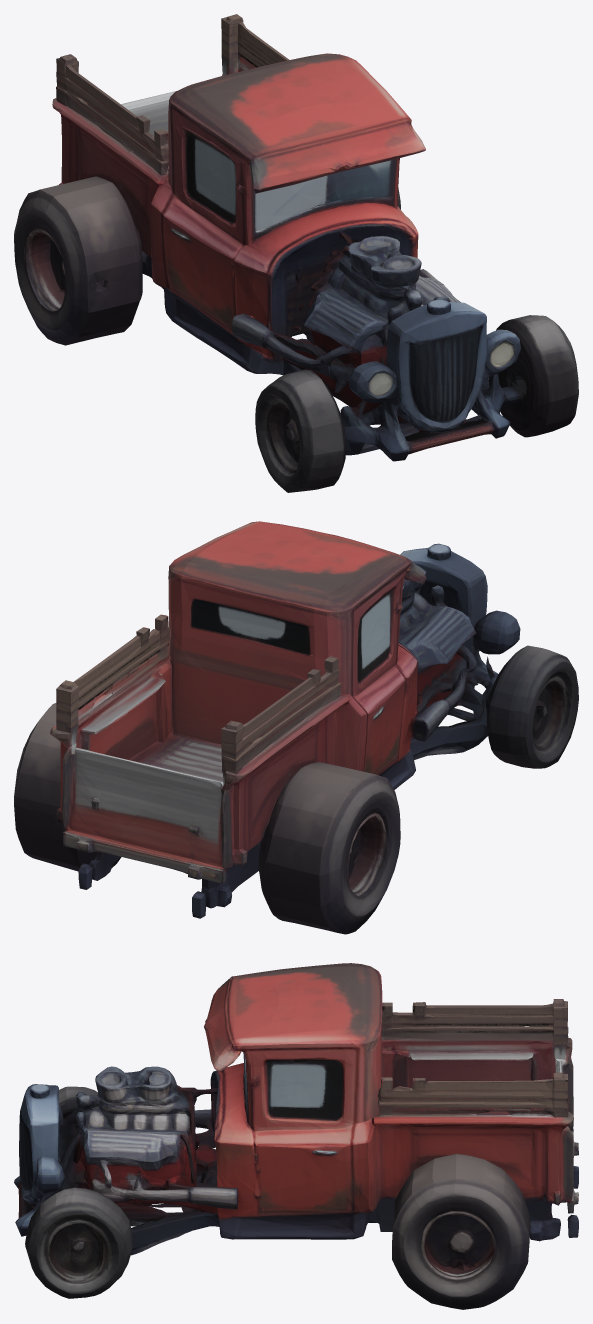
File: car_boss.glb
3 renders of one model, top to bottom at view 1: azimuth 30°, elevation 25°; view 2: azimuth 150°, elevation 25°; view 3: azimuth 270°, elevation 25°, orthographic. The views are drawn at different scales.
Visible parts, largest first — view 1: world; view 2: world; view 3: world.
Part boxes in pixels (x1,y1,x2,y2): world: (14, 14, 578, 492); world: (14, 521, 578, 934); world: (14, 963, 578, 1309).
Size of the model in its own units: 0.604 by 0.4853 by 0.9992.
Materials: 1 (1 with a texture image).
